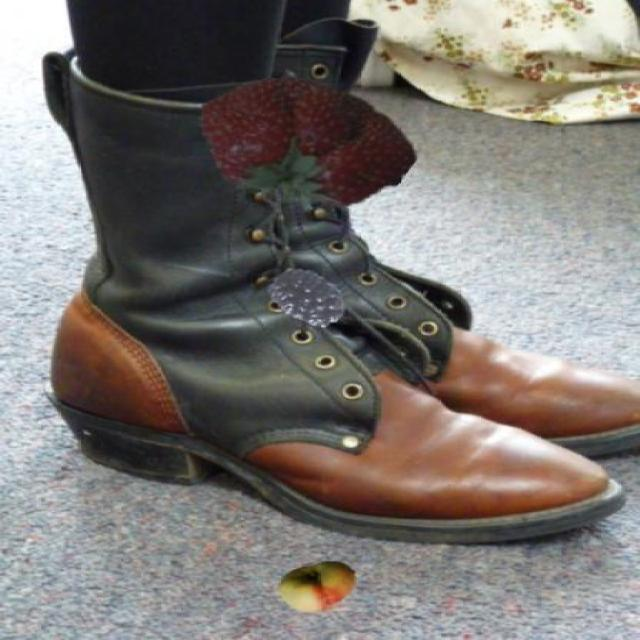Strawberry: (186, 60, 412, 232)
